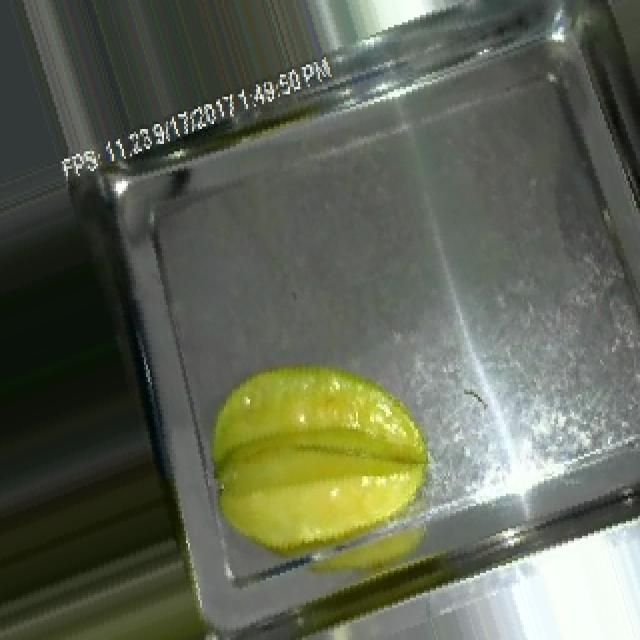fruit: (178, 305, 456, 595)
